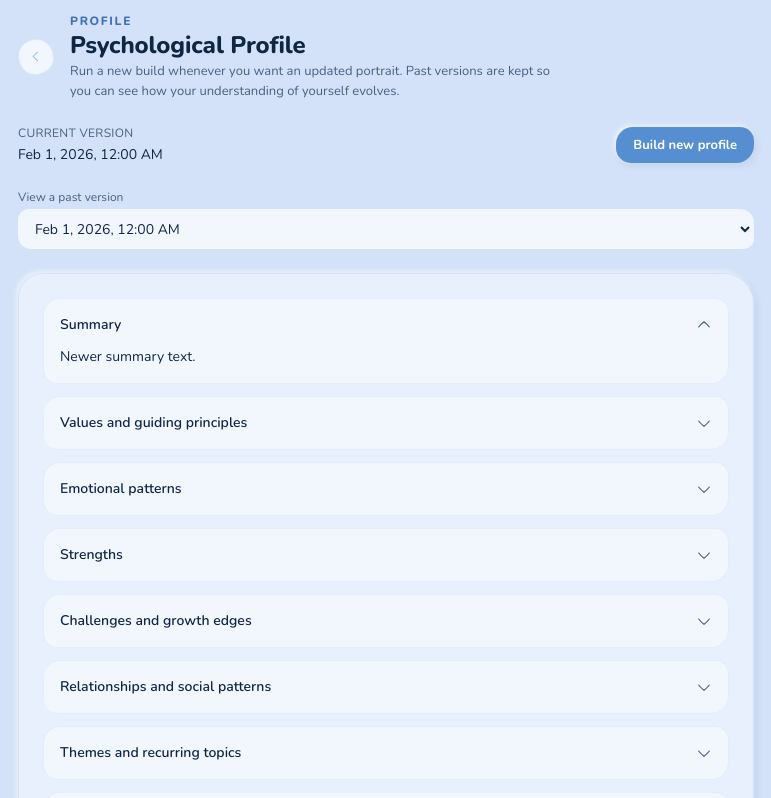
Test: PsychologicalProfileView › updates the displayed profile when a past version is selected
expect the text "Newer summary text." is shown: met, box [60,347,196,366]
Select "Jan 1, 2026, 12:00 AM" in the dropdown labelled "View a past version": [386, 229] box [18,209,754,249]
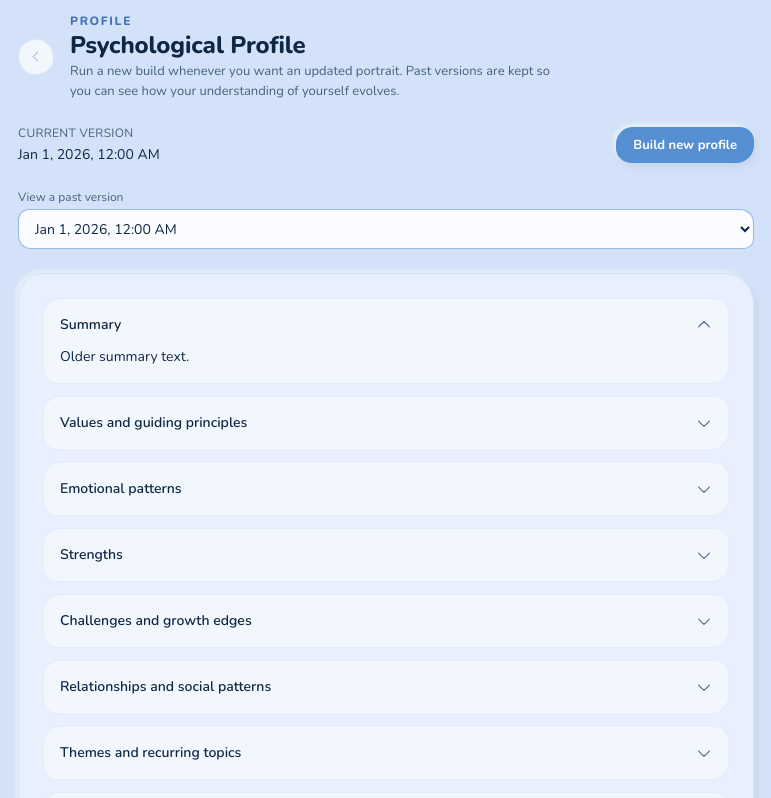
expect the text "Older summary text." is shown: met, box [60,347,189,366]
expect the text "Newer summary text." is gone: met
